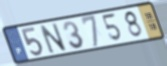3: (62, 19, 86, 51)
5: (19, 25, 45, 57), (99, 13, 123, 43)
7: (79, 13, 100, 49)
8: (124, 10, 144, 39)
N: (38, 21, 69, 55)
